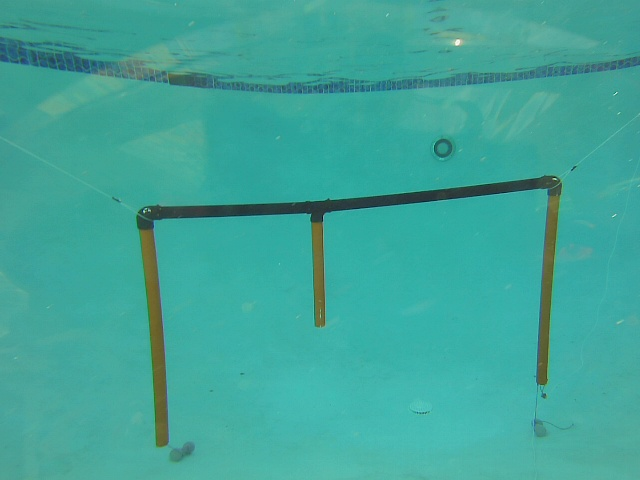Gate: (132, 223, 174, 448), (532, 190, 562, 388), (307, 216, 328, 328)
